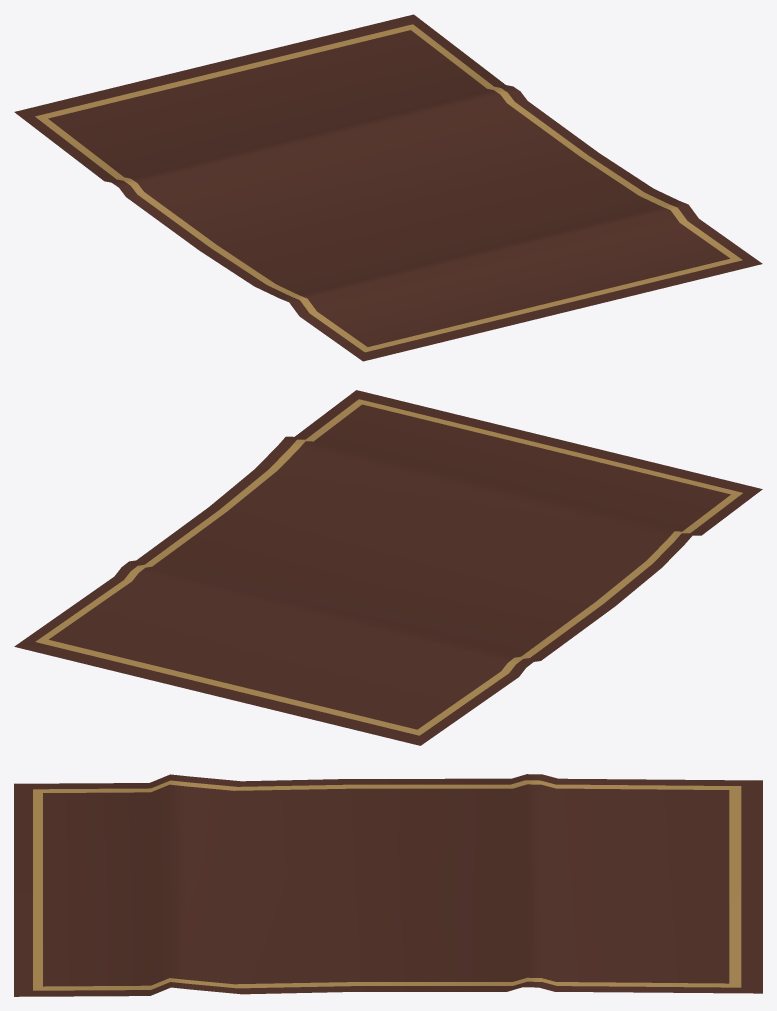
The model's file is rug.glb.
The picture shows the model from 3 angles, top to bottom: view 1: azimuth 30°, elevation 25°; view 2: azimuth 150°, elevation 25°; view 3: azimuth 270°, elevation 25°; orthographic projection. The views are drawn at different scales.
Visible parts, largest first — view 1: Carpet_1; view 2: Carpet_1; view 3: Carpet_1.
Part boxes in pixels (<box>): Carpet_1: <box>14,14,762,361</box>; Carpet_1: <box>14,390,762,745</box>; Carpet_1: <box>14,774,762,996</box>.
Size of the model in its own units: 2.13 by 0.0366 by 3.09.
